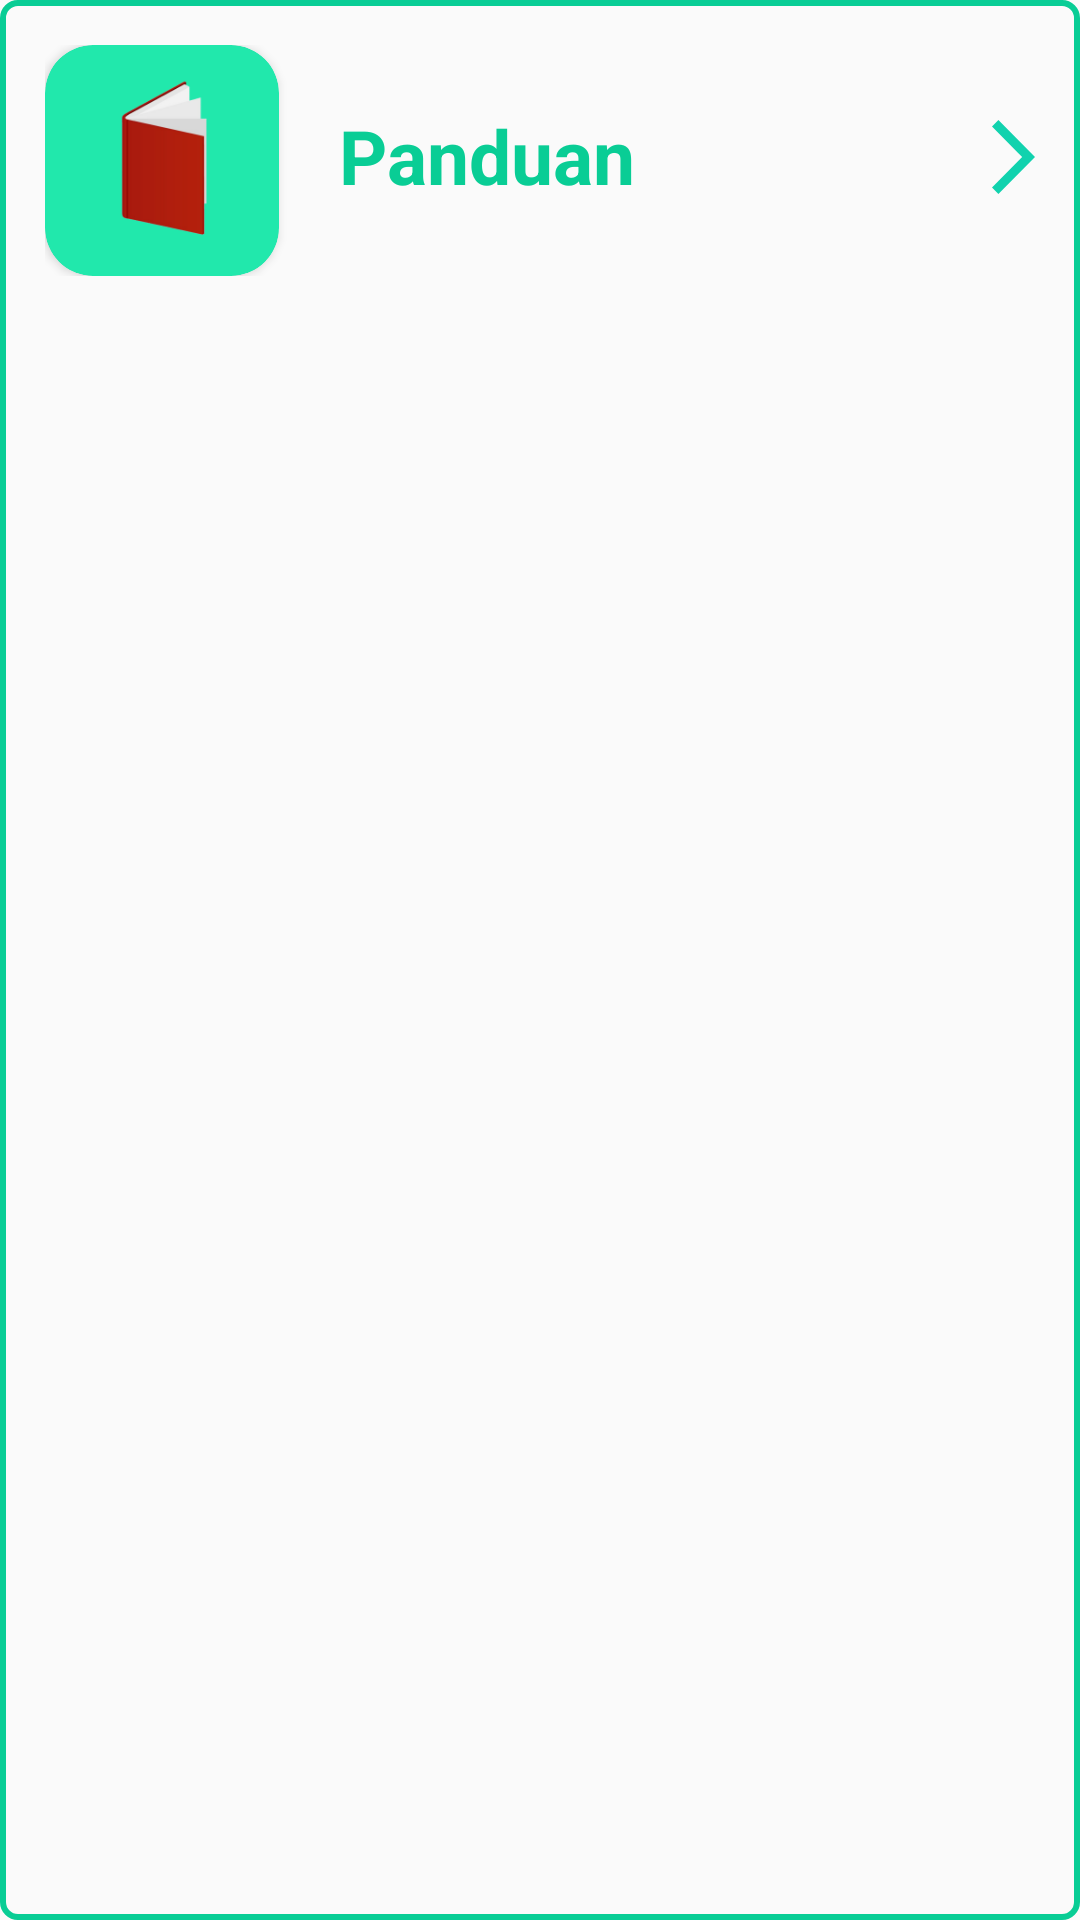

Where to tap for icons on this 1080px×1920px app screen, as [x,y]:
book: [164,158]
right: [1013,157]
